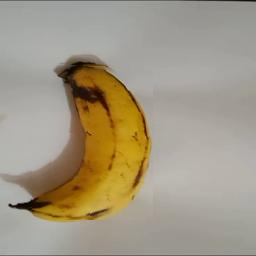Banana Semifresh: (20, 62, 154, 220)
